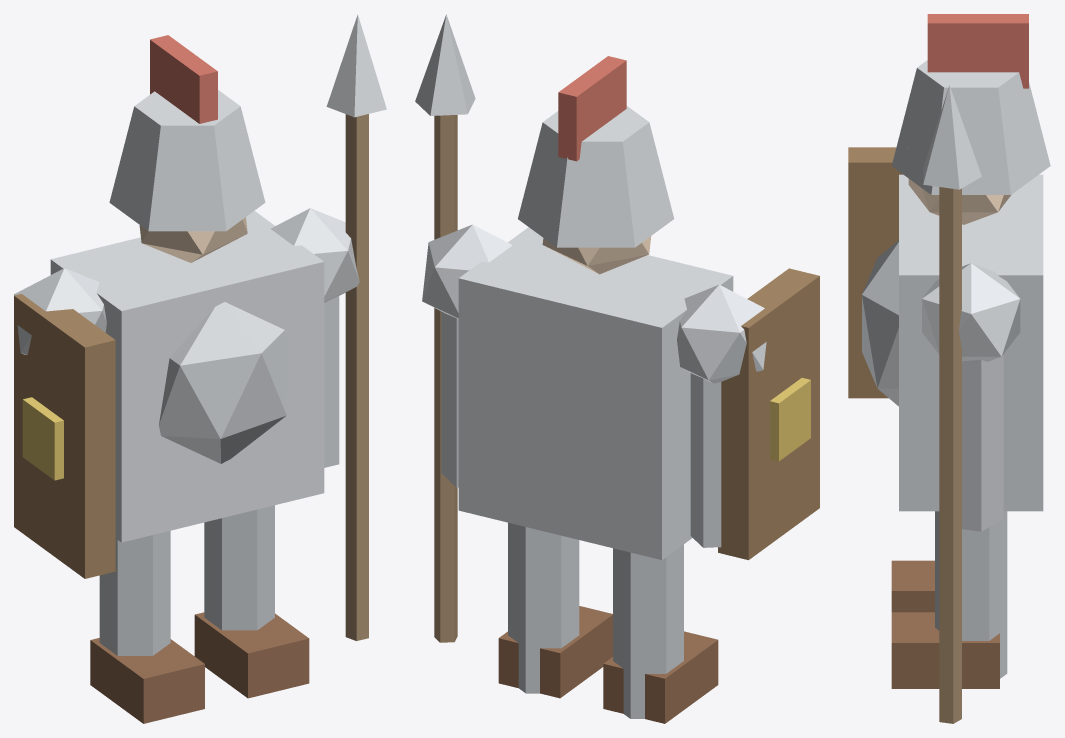
The model's file is npc_guard.glb.
3 renders of one model, left to right at view 1: azimuth 30°, elevation 25°; view 2: azimuth 150°, elevation 25°; view 3: azimuth 270°, elevation 25°, orthographic.
Visible parts, largest first — view 1: cuirass, shield, helm, breastplate, spear, greave_1, greave_0, boot_1, boot_0, crest, pauldron_1, spearhead (+4 smaller); view 2: cuirass, shield, helm, greave_0, greave_1, spear, pauldron_0, arm_0.001, boot_0, boot_1, crest, pauldron_1 (+4 smaller); view 3: cuirass, helm, spear, shield, arm_1.001, crest, greave_1, pauldron_1, boot_1, breastplate, spearhead, boot_0 (+1 smaller).
Boxes of the visible parts, x1,y1,x2,y2 form: cuirass: (50, 211, 324, 542); shield: (14, 294, 115, 578); helm: (109, 90, 265, 231); breastplate: (159, 302, 286, 463); spear: (345, 114, 368, 640); greave_1: (204, 505, 274, 630); greave_0: (99, 530, 170, 655); boot_1: (194, 612, 309, 698); boot_0: (90, 638, 204, 723); crest: (150, 35, 217, 123); pauldron_1: (270, 208, 359, 302); spearhead: (326, 14, 386, 117); cuirass: (458, 227, 733, 559); shield: (718, 268, 819, 560); helm: (518, 106, 674, 247); greave_0: (613, 544, 683, 718); greave_1: (508, 522, 579, 693); spear: (434, 115, 457, 642); pauldron_0: (677, 284, 766, 383); arm_0.001: (690, 373, 721, 547); boot_0: (603, 631, 718, 723); boot_1: (498, 606, 612, 698); crest: (558, 56, 626, 161); pauldron_1: (422, 224, 512, 318); cuirass: (899, 174, 1043, 511); helm: (891, 60, 1050, 194); spear: (939, 187, 961, 723); shield: (848, 147, 902, 398); arm_1.001: (962, 354, 1003, 531); crest: (927, 14, 1028, 88); greave_1: (935, 511, 1007, 678); pauldron_1: (922, 263, 1020, 361); boot_1: (891, 612, 999, 688); breastplate: (862, 240, 898, 406); spearhead: (923, 85, 981, 189); boot_0: (891, 560, 934, 612).
Size of the model in its own units: 1.17 by 1.96 by 0.56.
